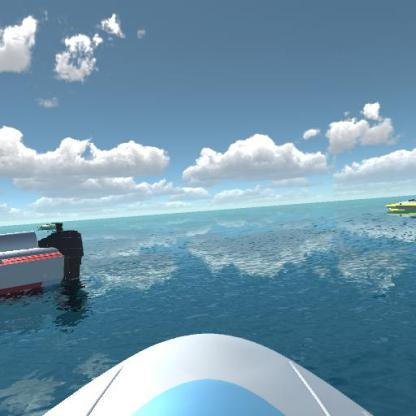usv0: (35, 220, 68, 230)
usv2: (384, 194, 415, 218)
usv3: (0, 227, 94, 302)
